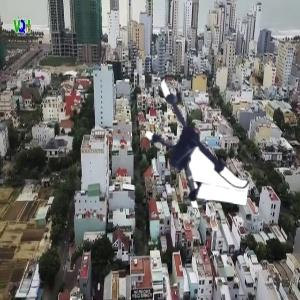drone: (126, 79, 256, 209)
